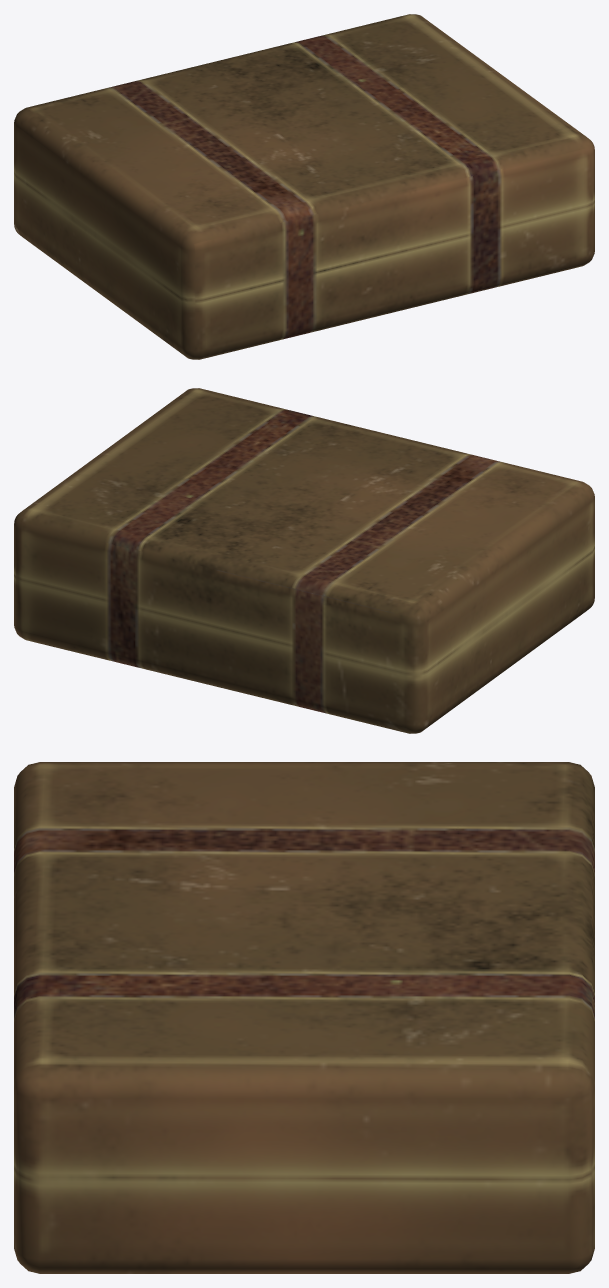
The model's file is Suitcase.FBX.
The picture shows the model from 3 angles, top to bottom: view 1: azimuth 30°, elevation 25°; view 2: azimuth 150°, elevation 25°; view 3: azimuth 270°, elevation 25°; orthographic projection. The views are drawn at different scales.
Visible parts, largest first — view 1: Suitcase; view 2: Suitcase; view 3: Suitcase.
Part boxes in pixels (left/top/right/bottom): Suitcase: left=14, top=14, right=594, bottom=359; Suitcase: left=14, top=388, right=594, bottom=733; Suitcase: left=14, top=762, right=594, bottom=1273.
Size of the model in its own units: 42.09 by 32.12 by 12.61.
